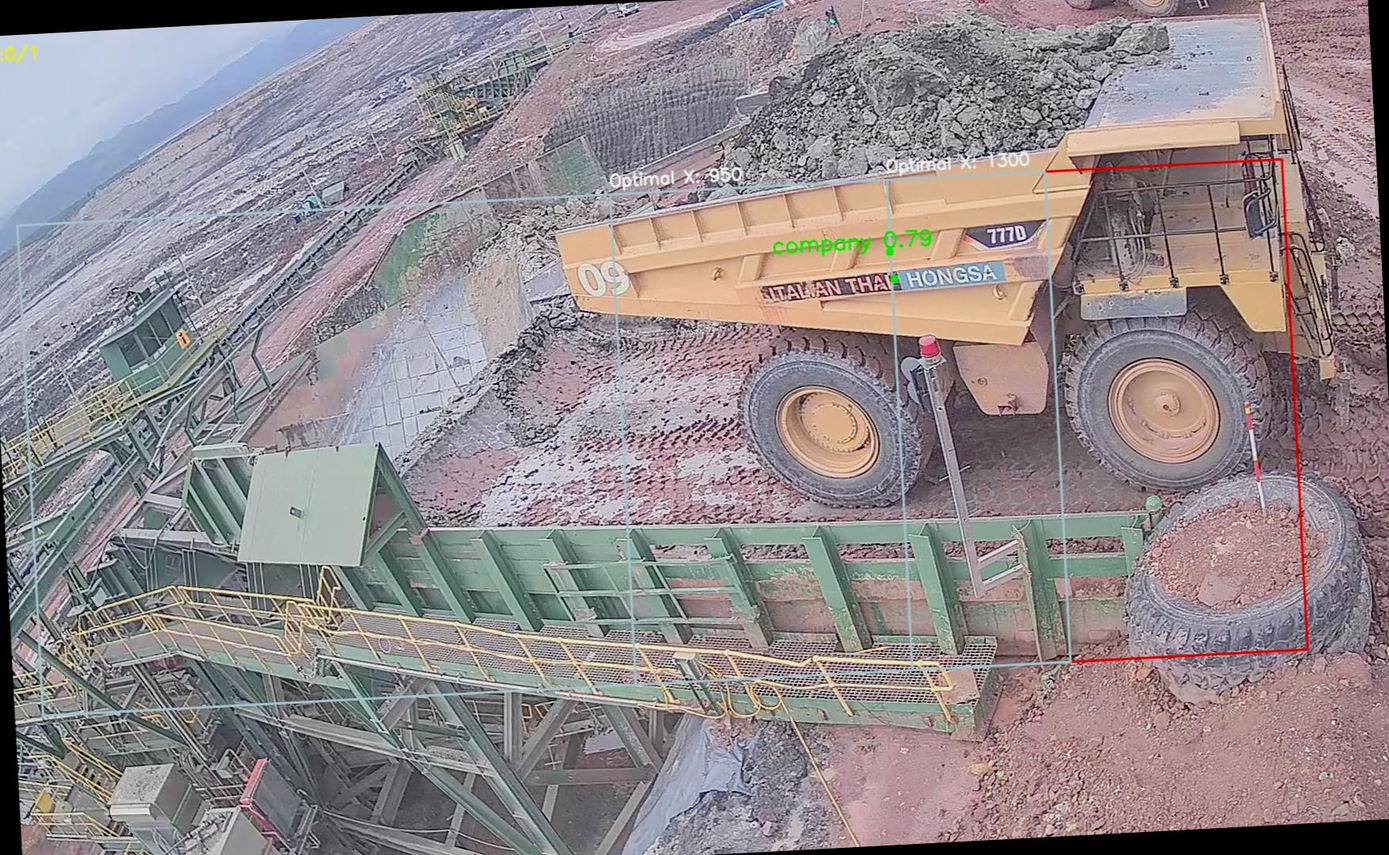company: (747, 251, 1006, 312)
full_load: (704, 4, 1089, 200)
mining_truck: (533, 0, 1364, 532)
tail_number: (566, 252, 638, 310)
truck_size: (967, 215, 1043, 261)
